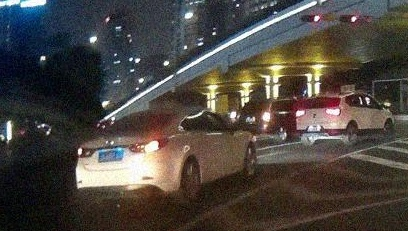L_light: (77, 145, 95, 158), (296, 109, 306, 118)
R_light: (129, 138, 169, 153), (326, 108, 341, 116)
T_light: (127, 115, 143, 118), (315, 97, 326, 100)
night-no: (295, 95, 343, 146)
night-right: (75, 112, 177, 210)
